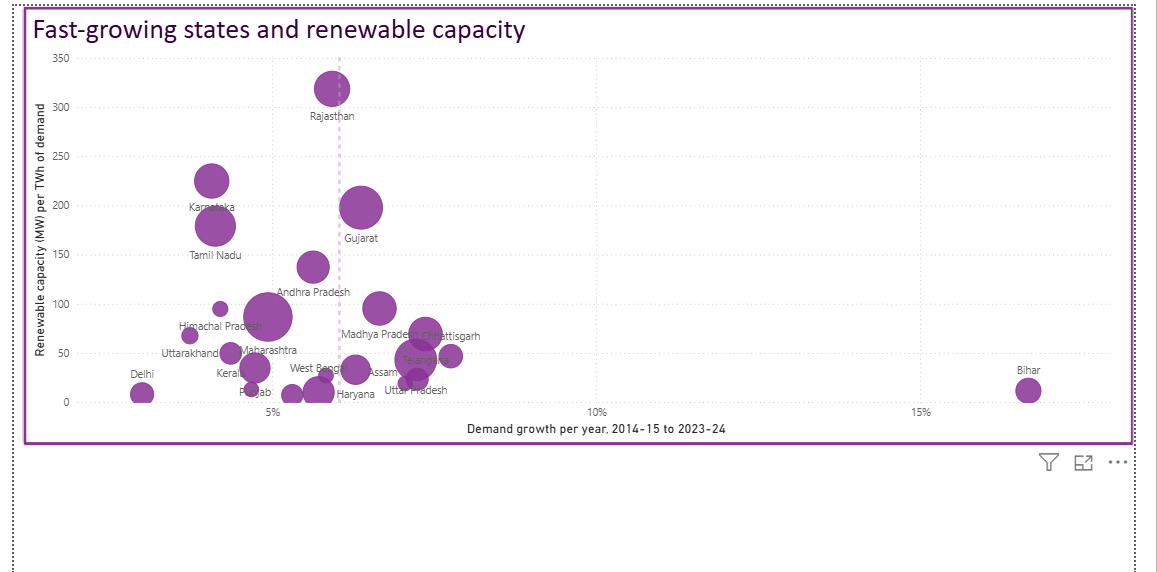

What the dashboard file says about the page in this screenshot:
{"tool":"powerbi","page":{"name":"Demand growth vs renewable readiness","canvas":[1280,720],"ordinal":2},"visuals":[{"type":"scatterChart","title":"Fast-growing states and renewable capacity","fields":{"X":["fact_consumption.Demand CAGR %"],"Y":["fact_consumption.RE MW per TWh"],"Size":["fact_consumption.Consumption 2023-24"],"Category":["dim_state.state_name"]},"box":[9.6,0,1270.7,502.2],"z":0}]}

Visuals, with their boxes on the page's 1280x720 design canvas (x1, y1, x2, y2). These are canvas units, not pixel positions in the 1157x572 screenshot, which may show the page scaled, cropped or inside an application window:
"Fast-growing states and renewable capacity" scatterChart: pyautogui.locateOnScreen(10, 0, 1280, 502)
